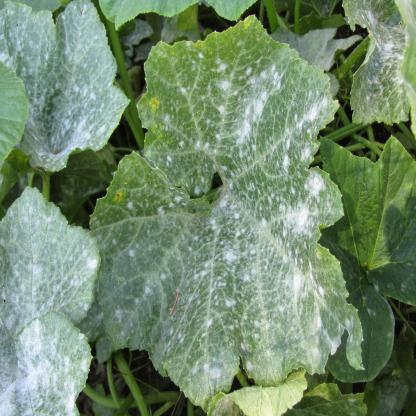Squash Powdery mildew leaf: (78, 13, 374, 398), (0, 185, 104, 415), (0, 6, 133, 172), (341, 0, 412, 134)
